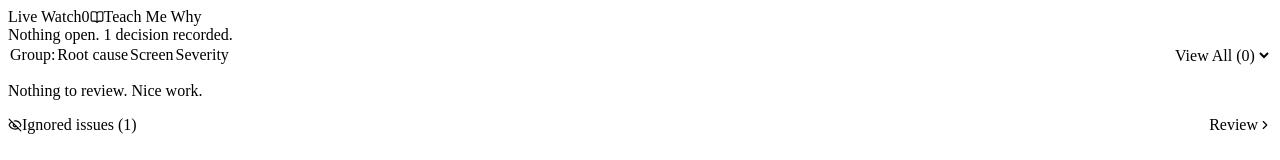
Test: IssuePanel › shows the Ignored filter count and its reason once a root is fully ignored
This screenshot has width=1280, height=160.
Step 1. Select "Ignored (1)" in the dropdown named "Filter issues" → (1222,55), box [1171,46,1272,64]
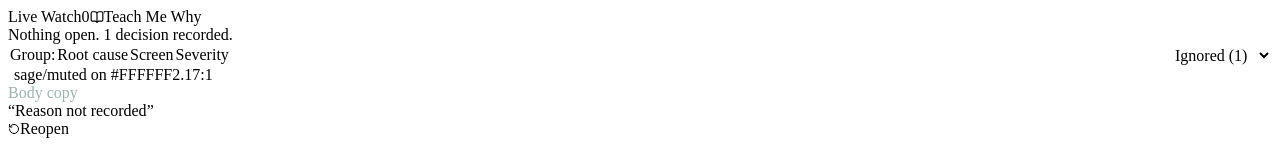
Result: the text "“Reason not recorded”" is shown at [8,102,154,119]
Result: the button "Reopen" is shown at [8,120,69,138]
